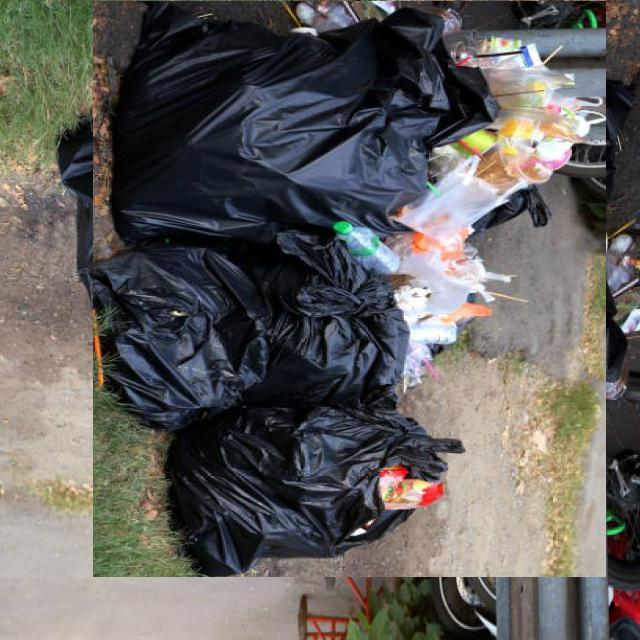Trashbag: (105, 13, 448, 240), (174, 383, 459, 568), (92, 229, 282, 425), (266, 220, 414, 408)
